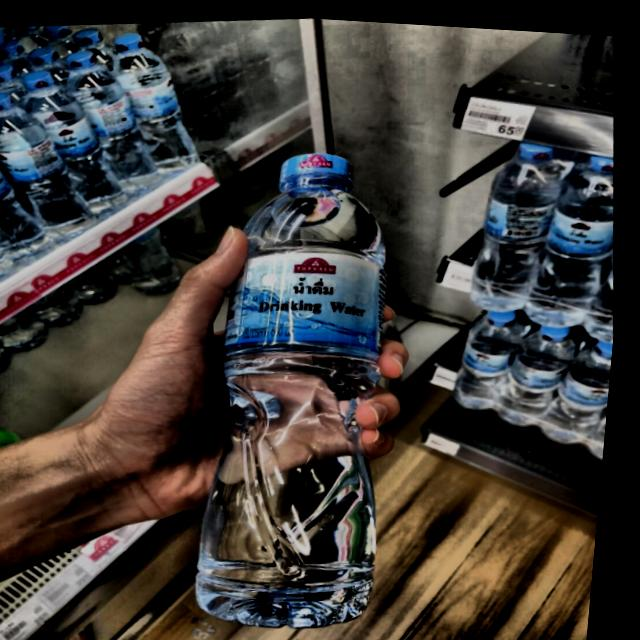Bottles: (118, 115, 478, 640)
